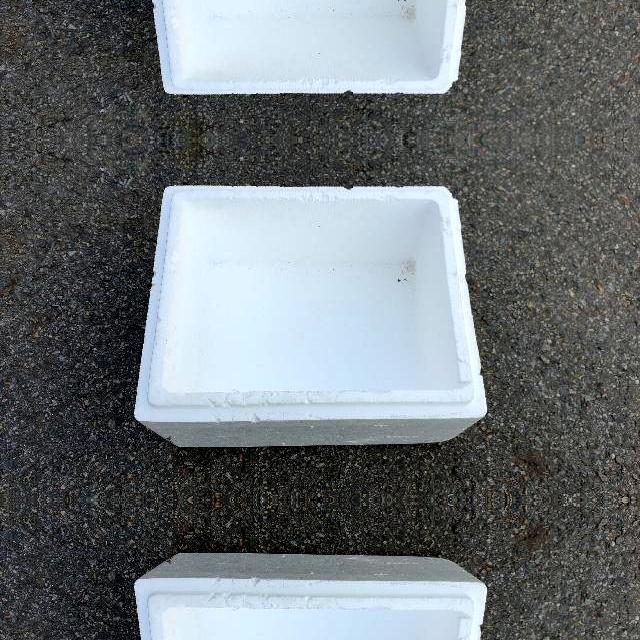Styrofoam: (133, 184, 489, 448), (135, 185, 488, 447), (133, 0, 489, 96), (133, 551, 489, 640), (135, 553, 488, 640), (153, 0, 467, 95)
